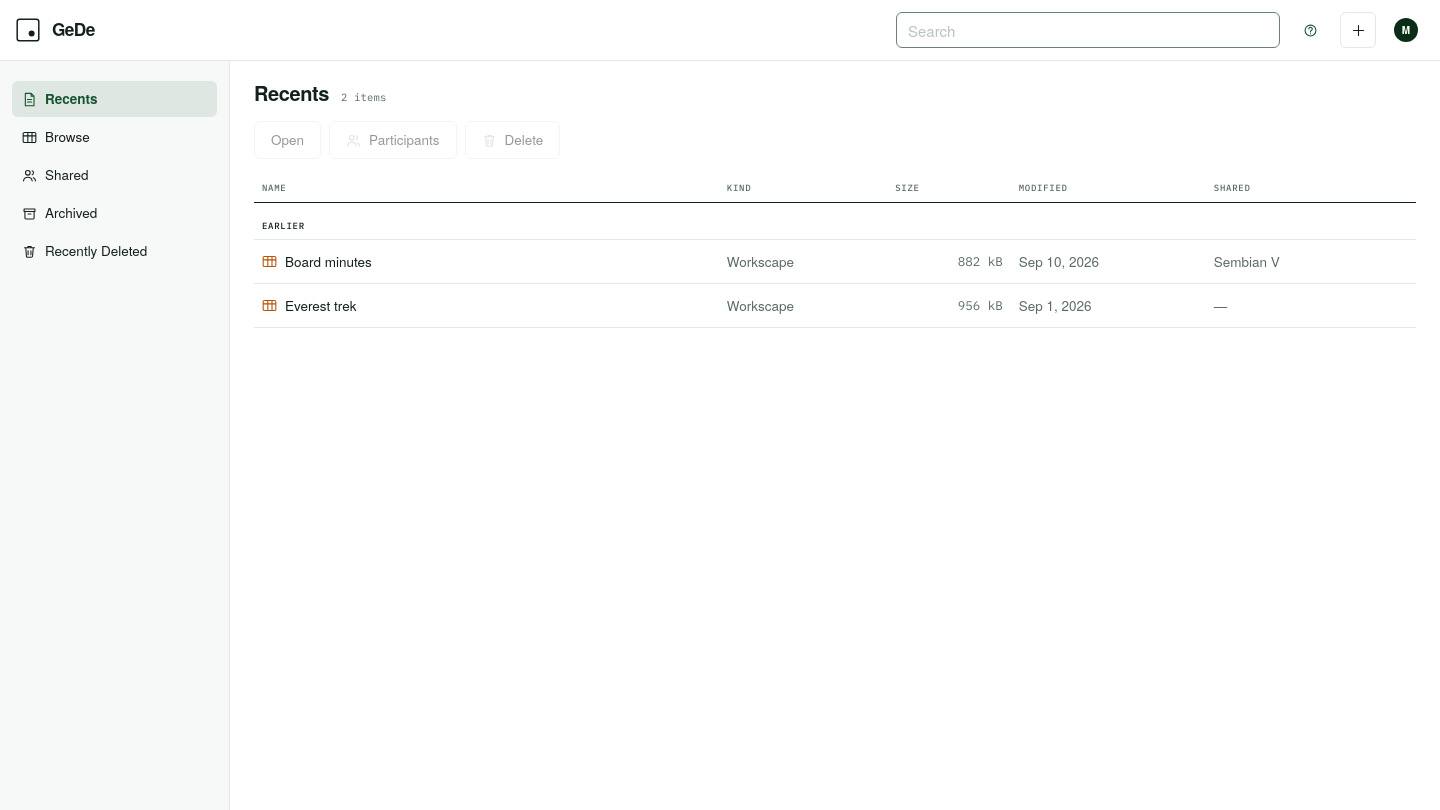
Test: Library › LIB-03 MENU-02 exactly one row selects; selection enables the toolbar and reveals the row overflow; unavailable commands stay visible, disabled, with a reason
Check: the button "Open" is disabled, box [254, 121, 321, 159]
Click the text "Board minutes" at [835, 262], box [254, 240, 1416, 284]
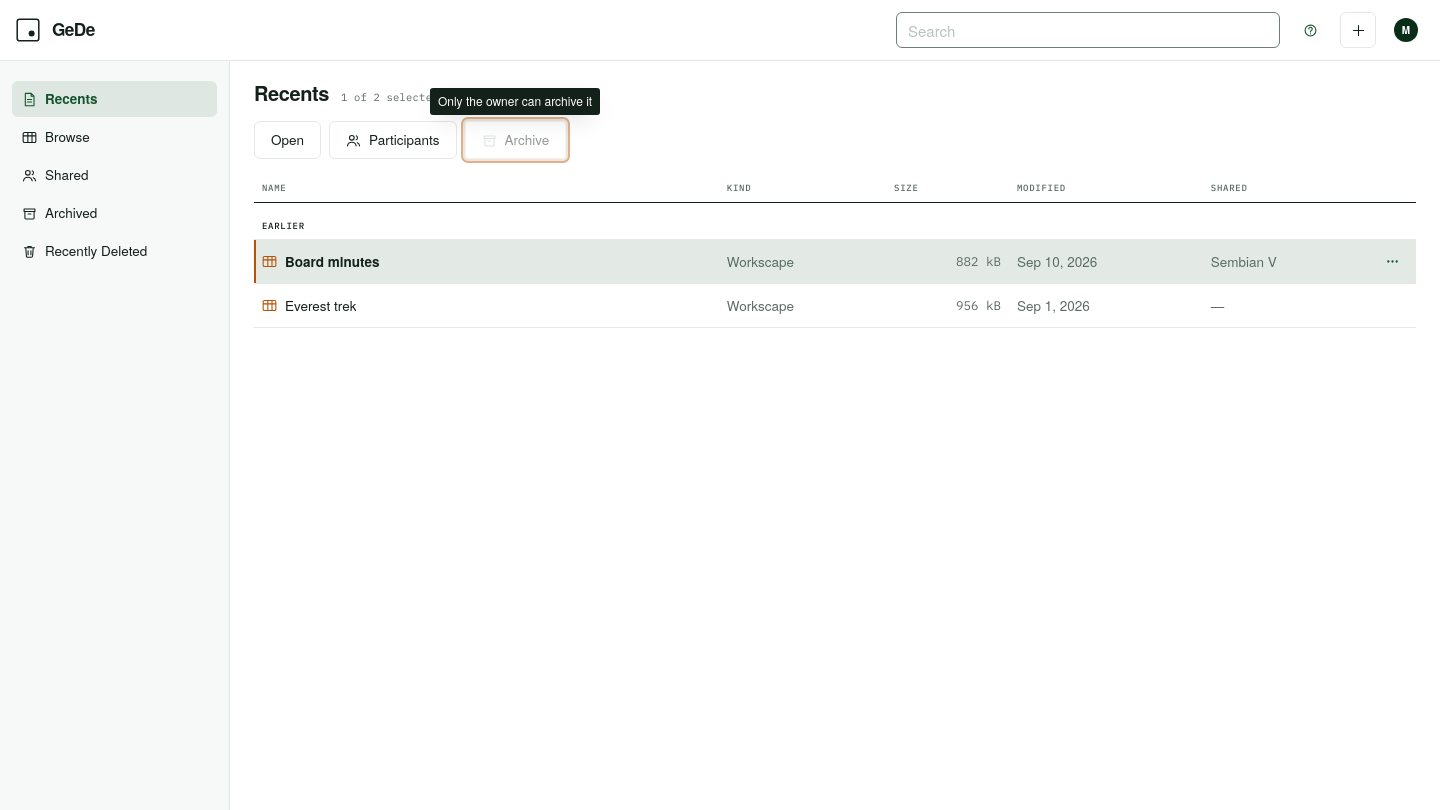
Check: the button "Open" is enabled, box [254, 121, 321, 159]
Check: the tooltip reads "Only the owner can archive it", box [438, 92, 592, 109]
Click the button named "More actions for Board minutes" at [1392, 262], box [1376, 246, 1408, 278]
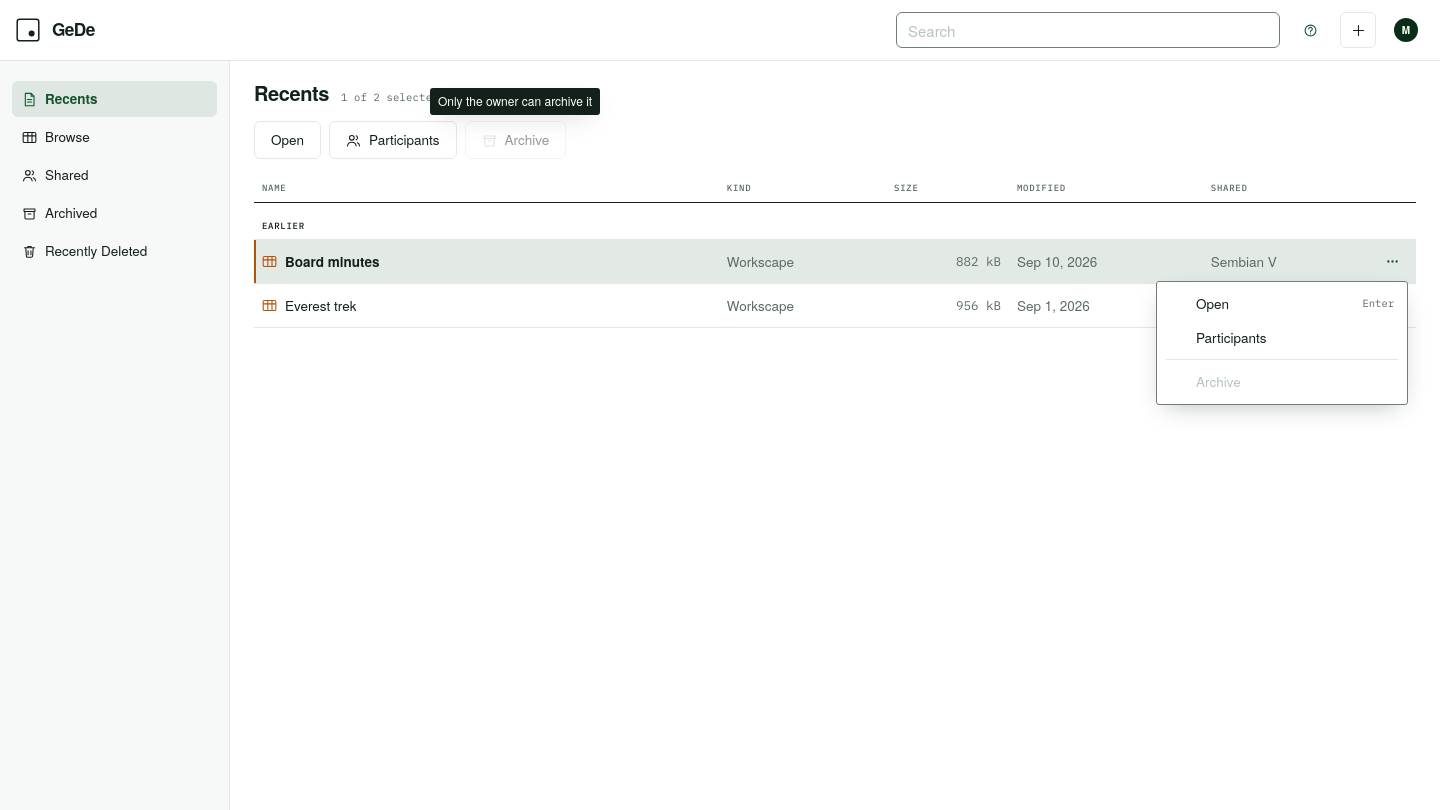
Press Escape
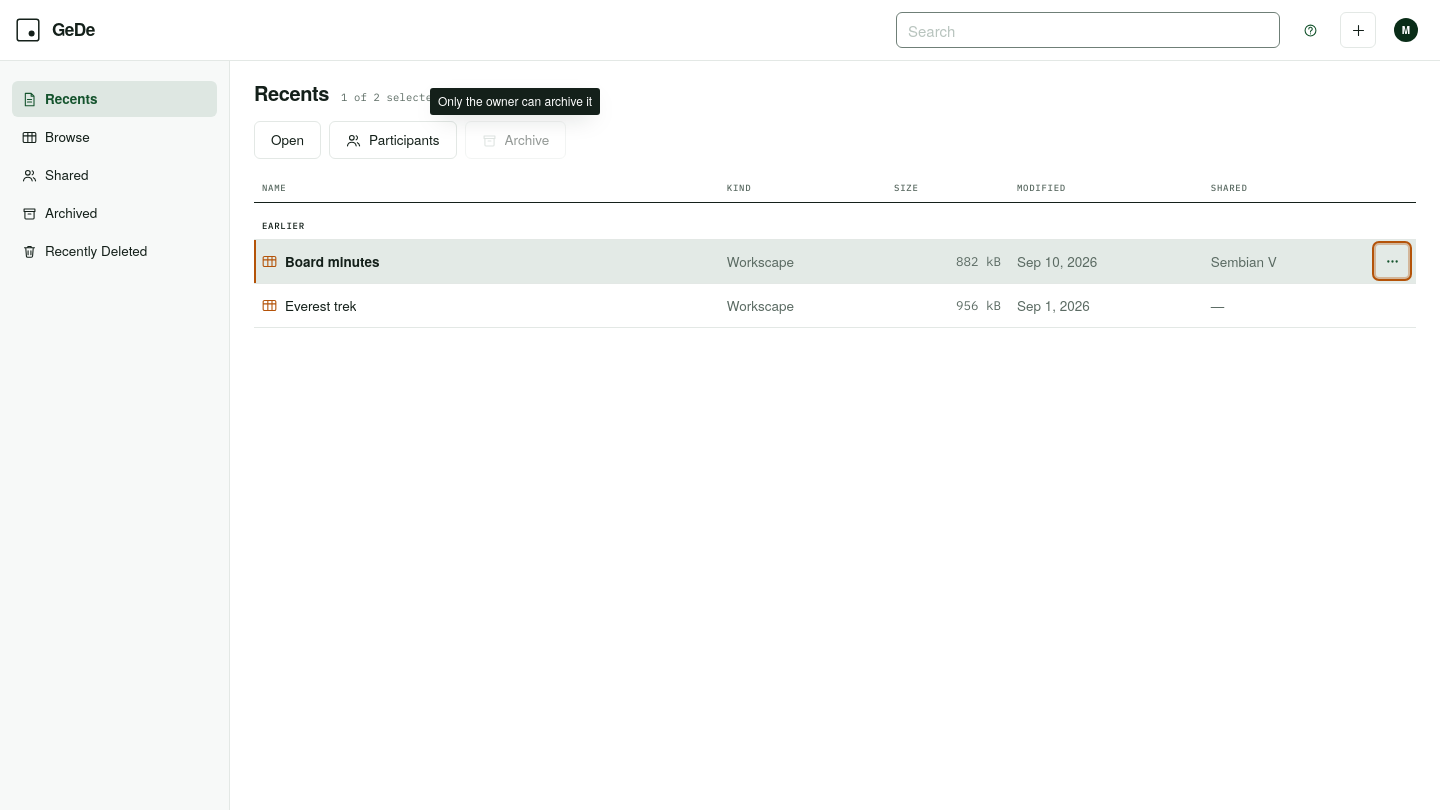
Click the text "Everest trek" at [835, 306], box [254, 284, 1416, 328]
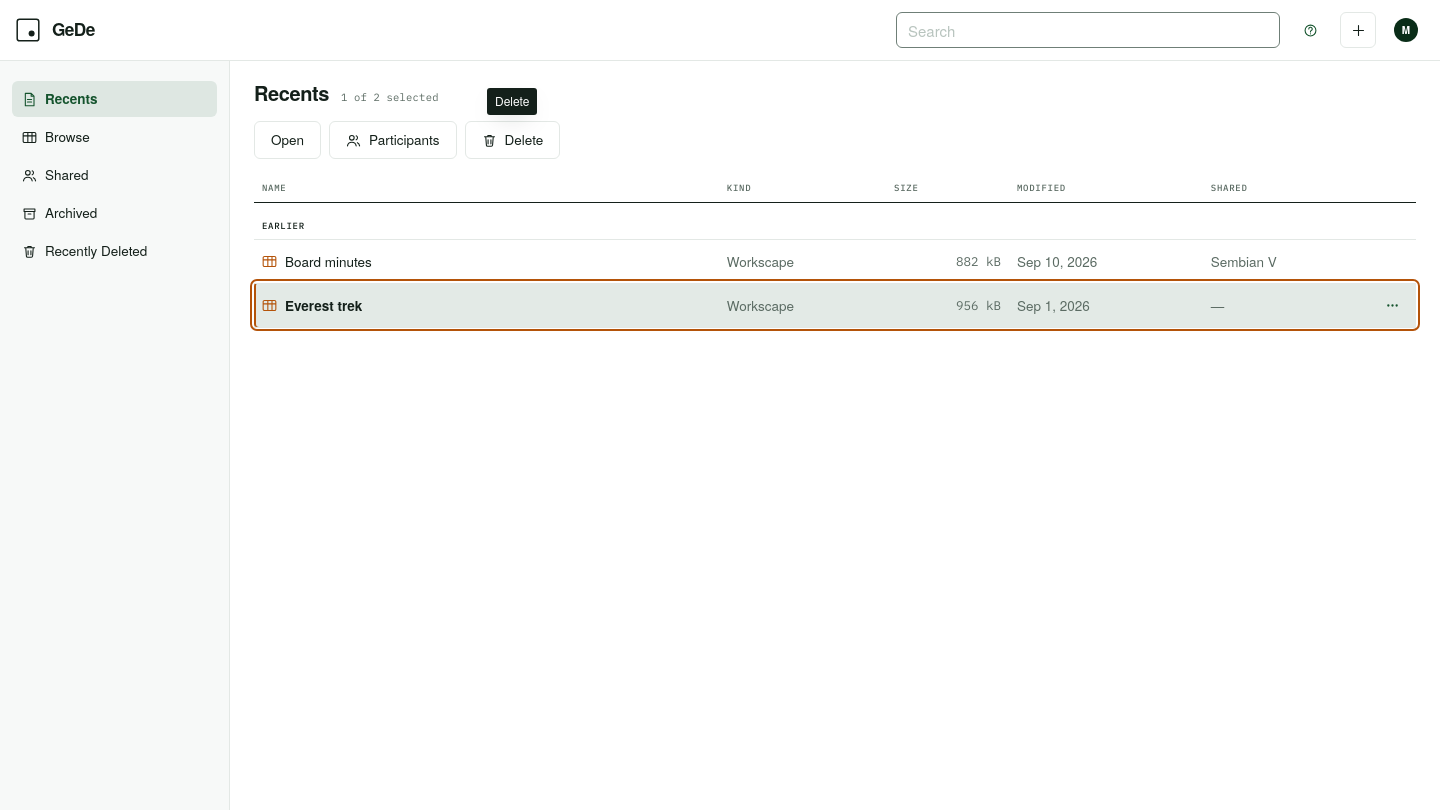
Check: the text "1 of 2 selected" is shown, box [341, 89, 439, 106]
Check: the button "Delete" is enabled, box [465, 121, 560, 159]
